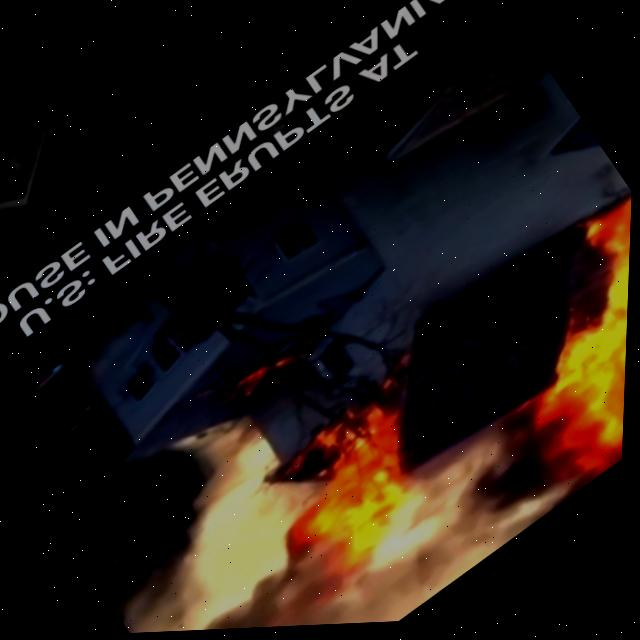Fire: (419, 191, 634, 524), (237, 366, 475, 598)
Smoke: (220, 423, 553, 632), (72, 416, 374, 637)
